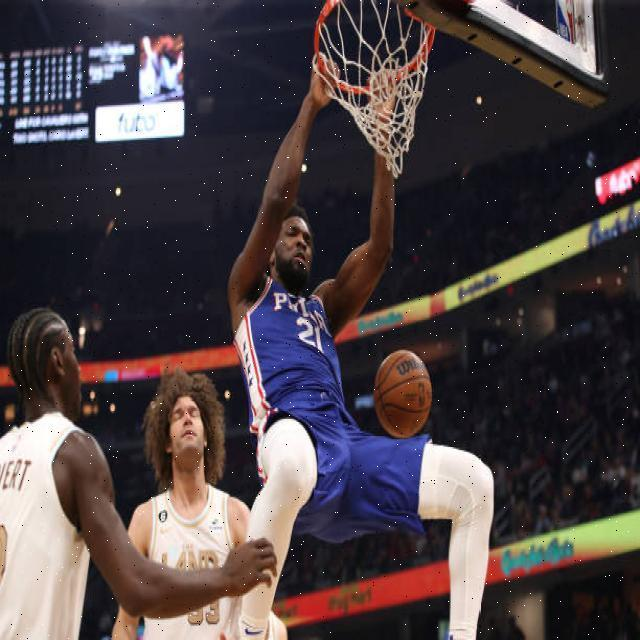ball: (372, 348, 435, 439)
hoop: (306, 1, 439, 93)
